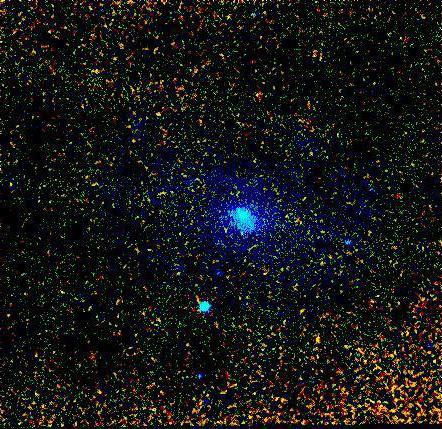star: (299, 317, 329, 347)
